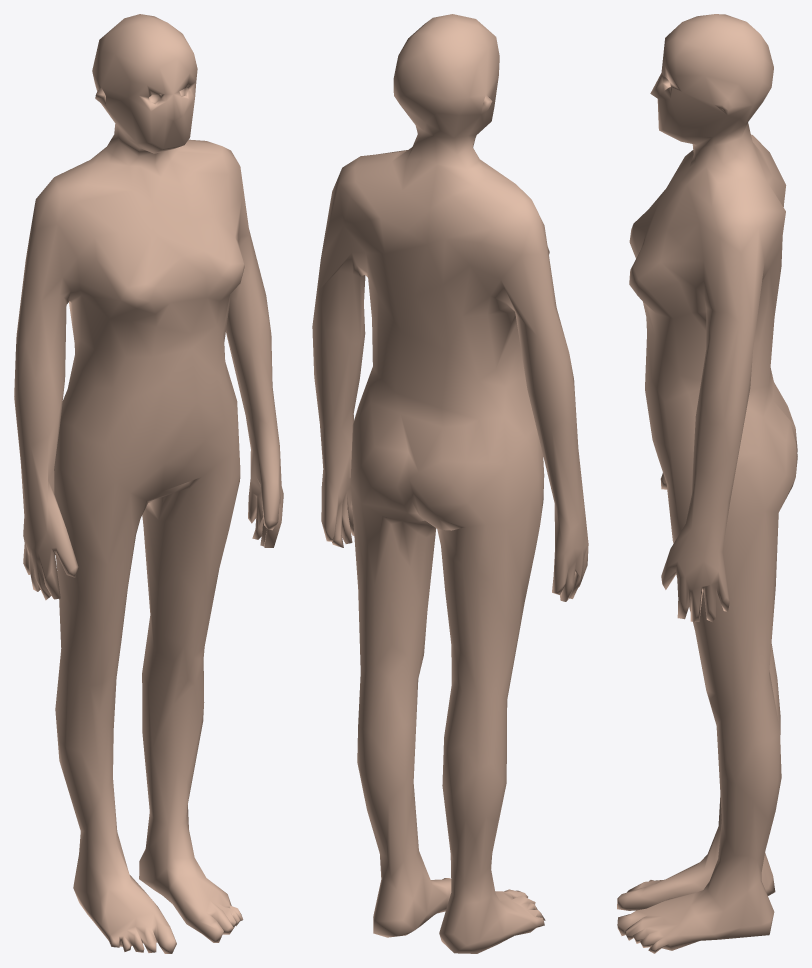
The model's file is pediatric_adolescent_female.surface.LOD3.glb.
3 renders of one model, left to right at view 1: azimuth 30°, elevation 25°; view 2: azimuth 150°, elevation 25°; view 3: azimuth 270°, elevation 25°, orthographic. The views are drawn at different scales.
Visible parts, largest first — view 1: PEDIATRIC.ADOLESCENT.FEMALE.SURFACE.SKIN; view 2: PEDIATRIC.ADOLESCENT.FEMALE.SURFACE.SKIN; view 3: PEDIATRIC.ADOLESCENT.FEMALE.SURFACE.SKIN.
Part boxes in pixels (bbox=[...]): PEDIATRIC.ADOLESCENT.FEMALE.SURFACE.SKIN: bbox=[14, 14, 283, 953]; PEDIATRIC.ADOLESCENT.FEMALE.SURFACE.SKIN: bbox=[312, 14, 588, 953]; PEDIATRIC.ADOLESCENT.FEMALE.SURFACE.SKIN: bbox=[617, 14, 797, 953].
Size of the model in its own units: 0.4741 by 1.61 by 0.2914.
